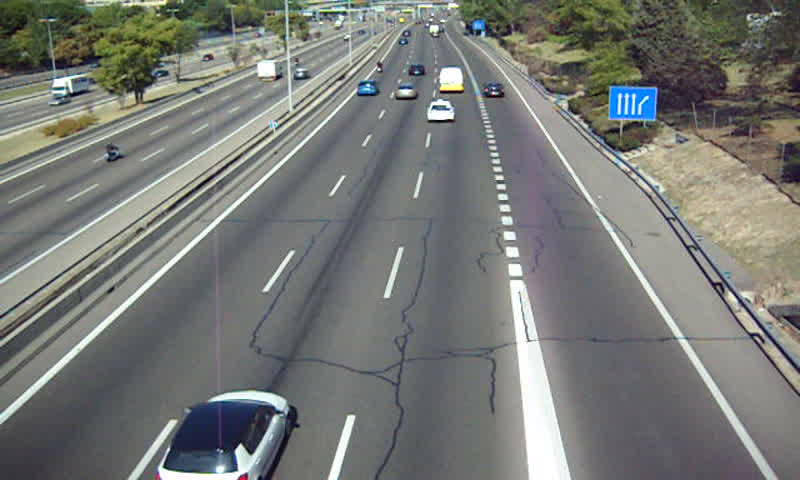car: (158, 390, 288, 480), (425, 100, 456, 122), (394, 84, 417, 101), (482, 82, 504, 99), (356, 81, 376, 98), (406, 64, 426, 75)
van: (437, 68, 464, 94)
